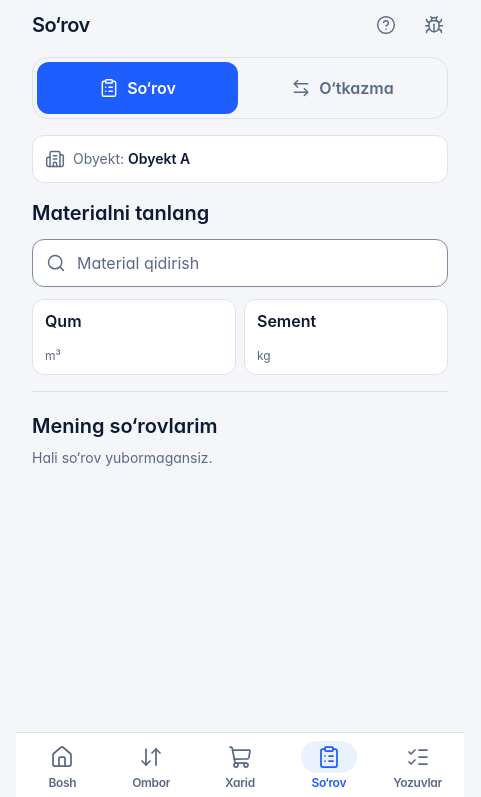
it: /tg/request — So‘rov › obyektda joriy smeta yo‘q — alohida matn
The image size is (481, 797).
Click the button "Sement kg": (346, 337) [244, 299, 448, 375]
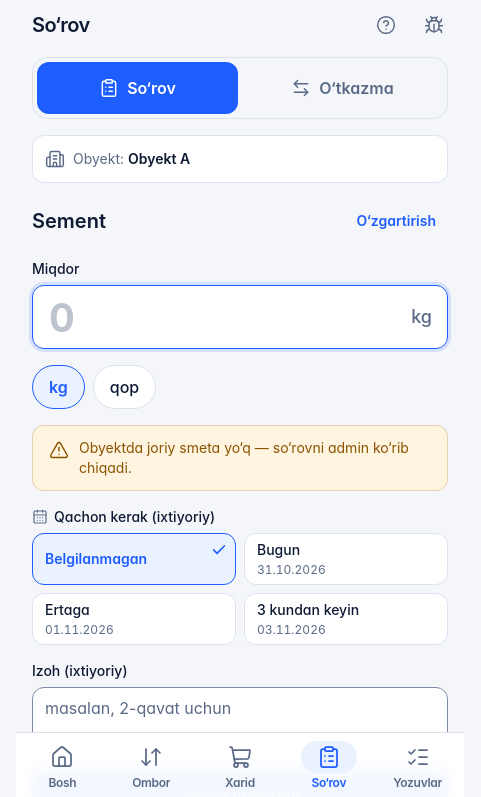
Now the text "Obyektda joriy smeta yo‘q — so‘rovni admin ko‘rib chiqadi." is shown, box [79, 438, 431, 478]
